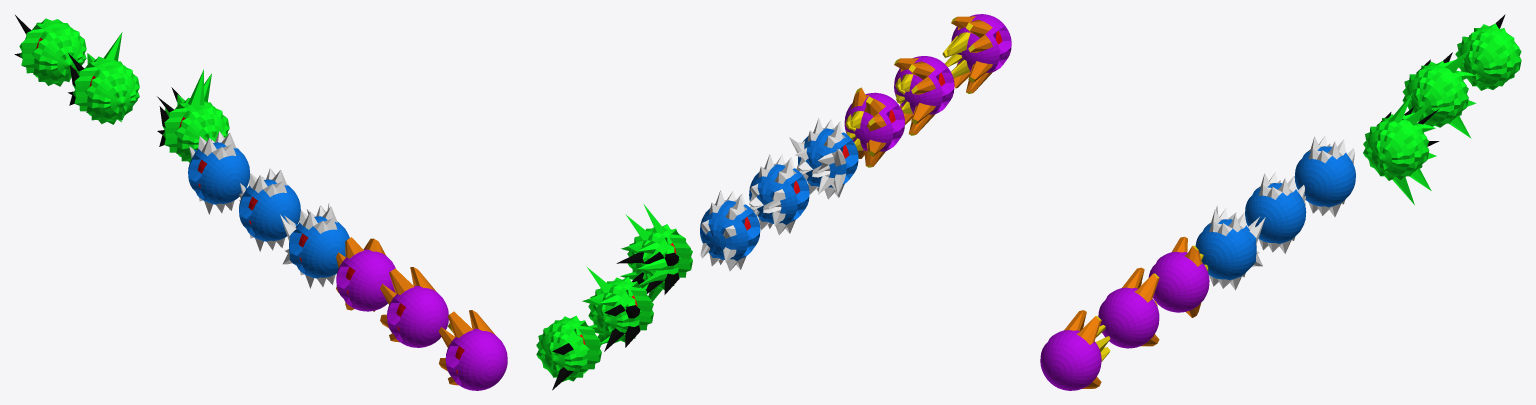
File: BabsKillerEnemy.fbx
3 views of the same model, side by side, from view 1: azimuth 30°, elevation 25°; view 2: azimuth 150°, elevation 25°; view 3: azimuth 330°, elevation 25° (orthographic). The views are drawn at different scales.
Parts seen in each view (by area): view 1: Sphere.020, Sphere.019, Sphere.013, Sphere.016, Sphere.021, Sphere.015, Sphere.014, Sphere.012, Sphere.018; view 2: Sphere.020, Sphere.014, Sphere.013, Sphere.016, Sphere.019, Sphere.021, Sphere.015, Sphere.018, Sphere.012; view 3: Sphere.014, Sphere.020, Sphere.016, Sphere.019, Sphere.013, Sphere.021, Sphere.015, Sphere.018, Sphere.012.
Part boxes in pixels (x1,y1,x2,y2): Sphere.020: (438, 310, 507, 390); Sphere.019: (380, 267, 448, 347); Sphere.013: (68, 32, 139, 124); Sphere.016: (280, 202, 349, 288); Sphere.021: (188, 131, 250, 214); Sphere.015: (239, 168, 300, 251); Sphere.014: (157, 69, 229, 162); Sphere.012: (14, 15, 86, 86); Sphere.018: (336, 237, 395, 311); Sphere.020: (942, 14, 1011, 93); Sphere.014: (616, 204, 692, 301); Sphere.013: (582, 267, 653, 351); Sphere.016: (789, 118, 858, 199); Sphere.019: (894, 56, 954, 135); Sphere.021: (700, 190, 760, 271); Sphere.015: (749, 154, 809, 235); Sphere.018: (844, 87, 904, 167); Sphere.012: (536, 315, 601, 390); Sphere.014: (1363, 92, 1439, 204); Sphere.020: (1040, 310, 1110, 390); Sphere.016: (1195, 205, 1265, 290); Sphere.019: (1098, 267, 1159, 348); Sphere.013: (1402, 49, 1476, 138); Sphere.021: (1294, 135, 1355, 217); Sphere.015: (1245, 172, 1306, 253); Sphere.018: (1148, 236, 1209, 317); Sphere.012: (1455, 14, 1521, 90).
Bounding box in the file's own units: 38.11 × 52.04 × 381.
